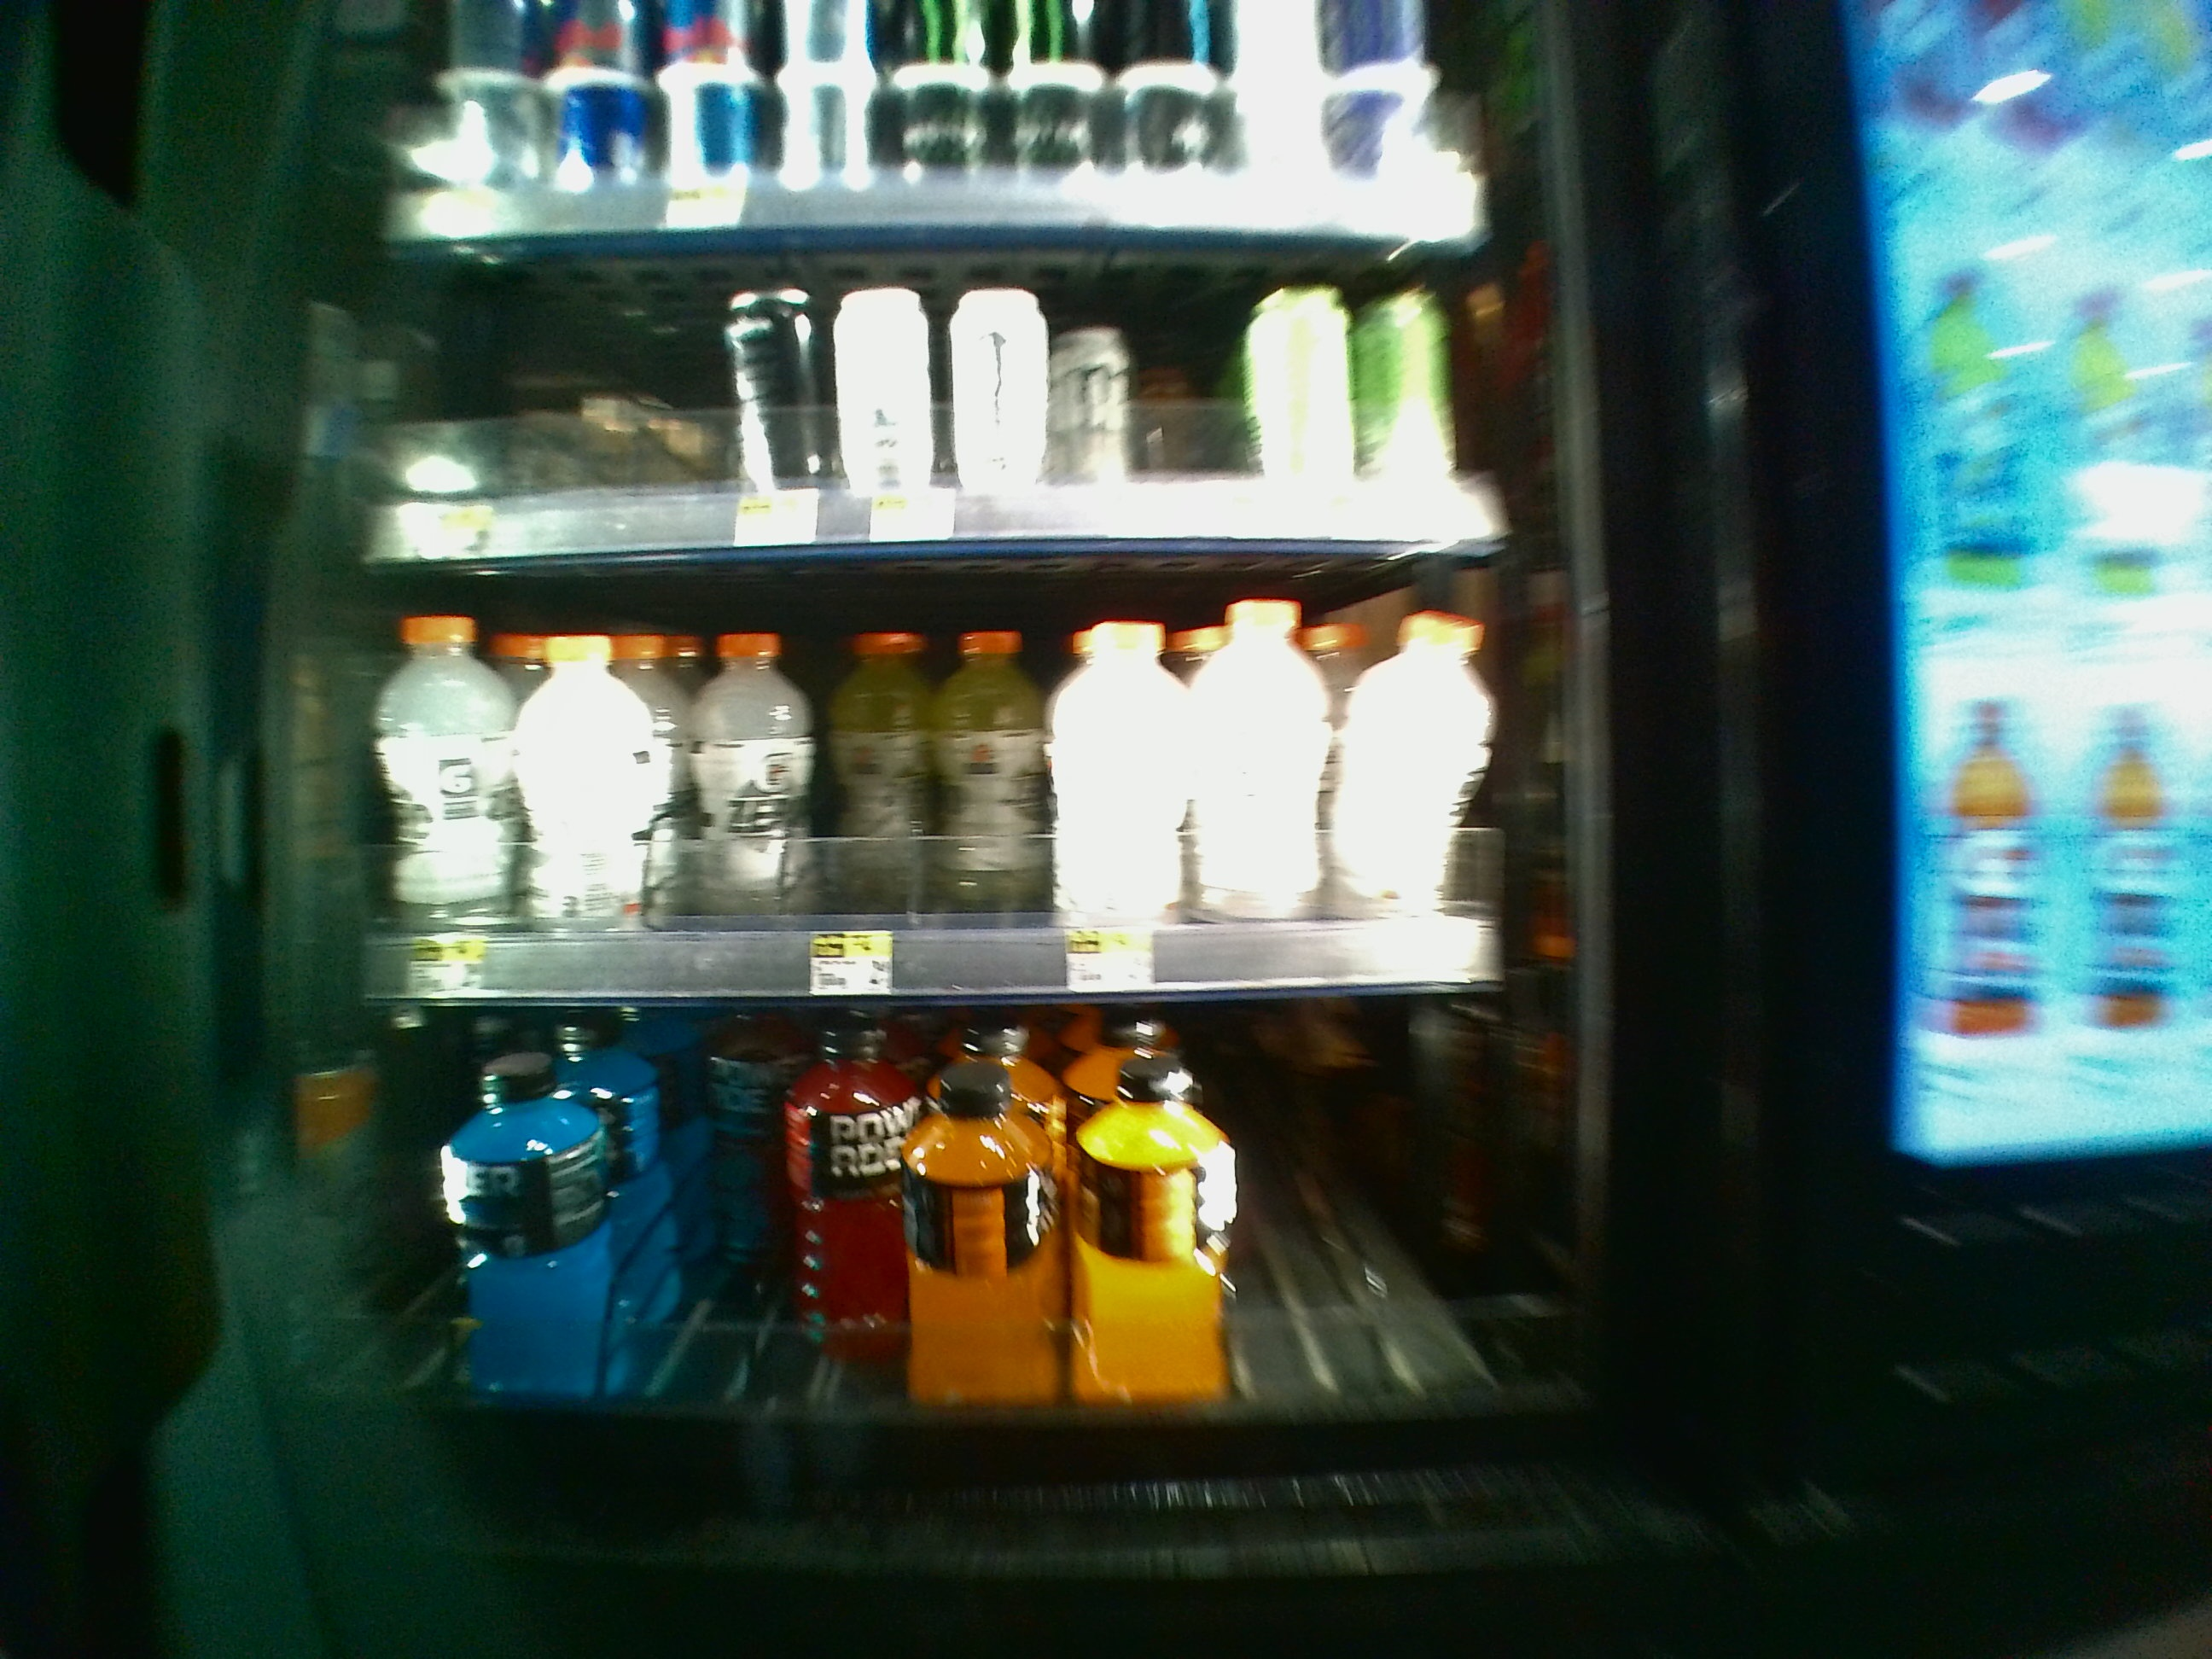shelf: (355, 558, 1601, 992), (336, 993, 1609, 1408), (343, 240, 1594, 545)
